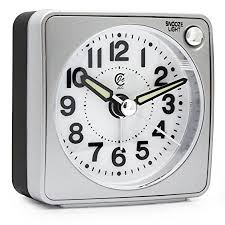alarm_clock: (11, 5, 214, 206)
